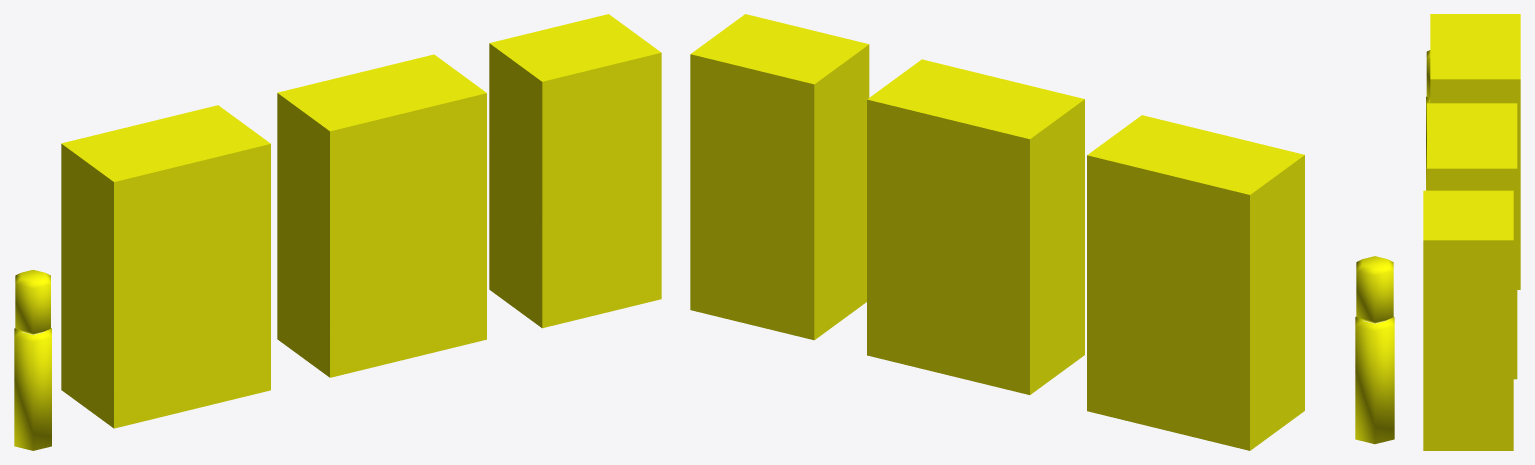
The model's file is drink_machines.glb.
The picture shows the model from 3 angles, left to right: view 1: azimuth 30°, elevation 25°; view 2: azimuth 150°, elevation 25°; view 3: azimuth 270°, elevation 25°; orthographic projection. The views are drawn at different scales.
Visible parts, largest first — view 1: Vending_machine_01, Vending_machine_02, Vending_machine_03, Water Cooler; view 2: Vending_machine_01, Vending_machine_02, Vending_machine_03, Water Cooler; view 3: Vending_machine_03, Vending_machine_02, Vending_machine_01, Water Cooler.
Part boxes in pixels (x1,y1,x2,y2): Vending_machine_01: (61, 105, 270, 428); Vending_machine_02: (277, 54, 486, 377); Vending_machine_03: (489, 14, 661, 328); Water Cooler: (14, 270, 51, 450); Vending_machine_01: (1087, 115, 1304, 450); Vending_machine_02: (867, 59, 1084, 394); Vending_machine_03: (690, 14, 869, 340); Water Cooler: (1355, 256, 1394, 444); Vending_machine_03: (1423, 190, 1513, 450); Vending_machine_02: (1427, 103, 1517, 379); Vending_machine_01: (1430, 14, 1520, 289); Water Cooler: (1426, 50, 1430, 190).
Size of the model in its own units: 4.86 by 1.8 by 0.7564.
Materials: 4 (4 with a texture image).
